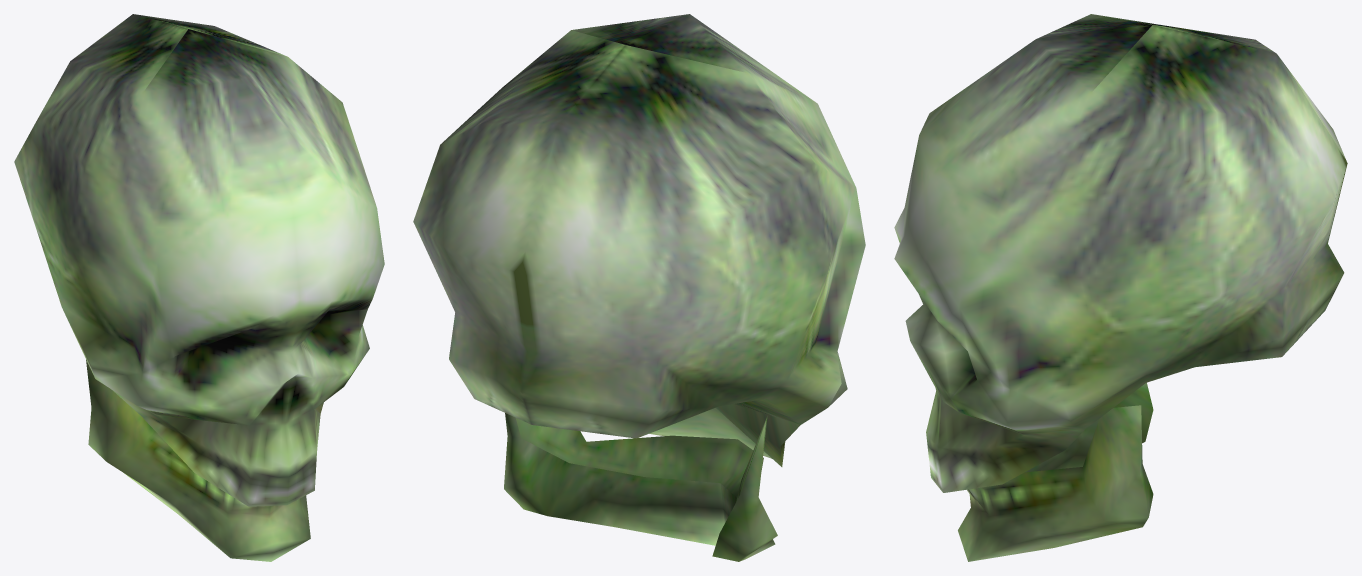
The model's file is effects_kulou.FBX.
3 views of the same model, side by side, from view 1: azimuth 30°, elevation 25°; view 2: azimuth 150°, elevation 25°; view 3: azimuth 270°, elevation 25° (orthographic). The views are drawn at different scales.
Parts seen in each view (by area): view 1: obj33020081; view 2: obj33020081; view 3: obj33020081.
Part boxes in pixels (x1=…): obj33020081: x1=14, y1=14, x2=384, y2=561; obj33020081: x1=413, y1=14, x2=865, y2=561; obj33020081: x1=894, y1=14, x2=1347, y2=561.
Size of the model in its own units: 14.24 by 22.47 by 17.43.
